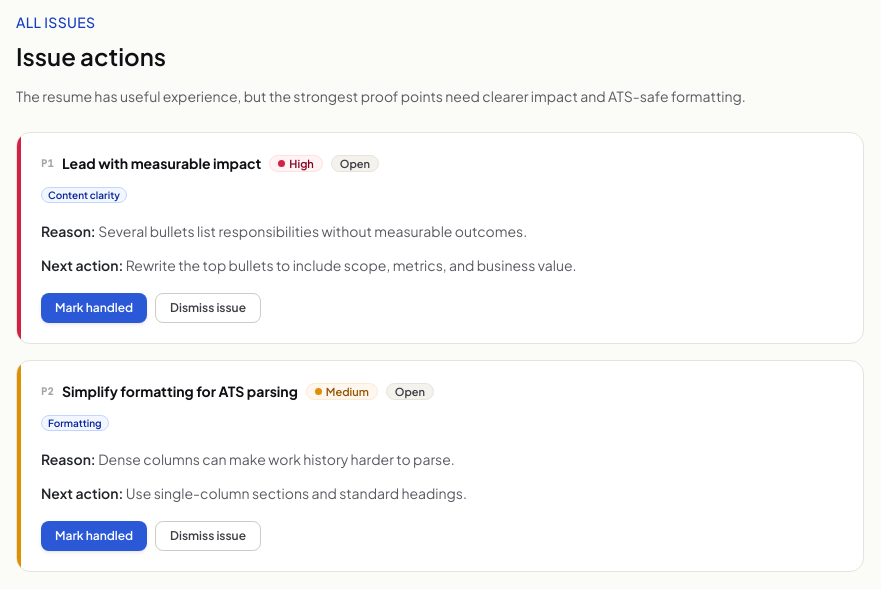
Test: SuggestionsSection › marks an issue handled and keeps the report context visible
This screenshot has width=881, height=589.
Click the button "Mark handled" below "Content clarity" at (94, 308), box x1=41 y1=293 x2=147 y2=323
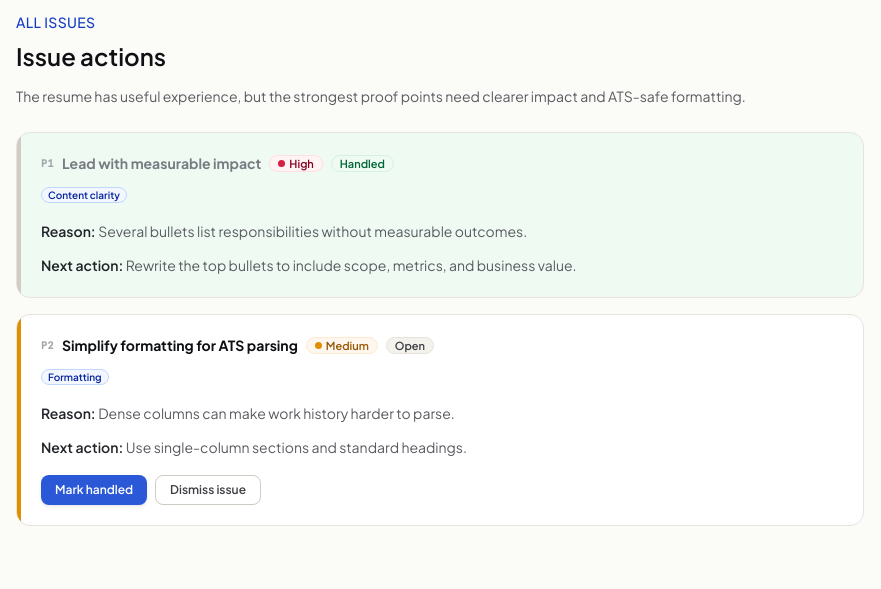
Expected: the text "The resume has useful experience, but the strongest proof points need clearer impact and ATS-safe formatting." is shown, x1=16 y1=87 x2=746 y2=105
Expected: the text with test id "issue-status" reads "Handled", x1=340 y1=156 x2=385 y2=170
